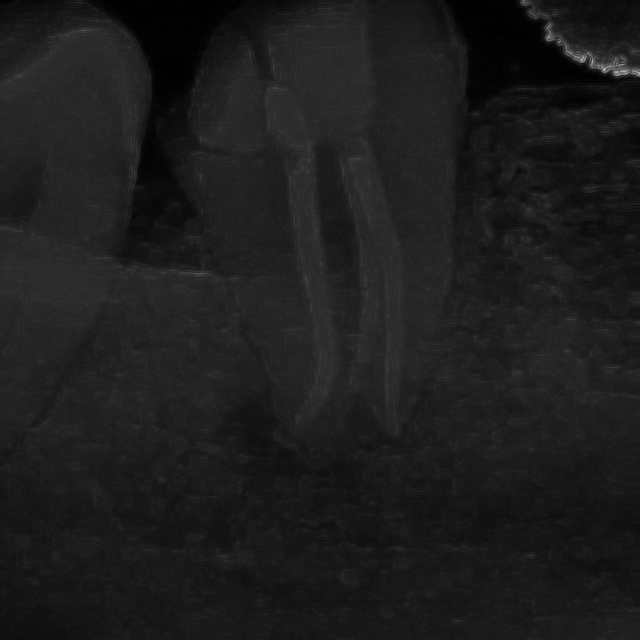Class 1- complete endodontic treatment: (141, 9, 552, 482)
